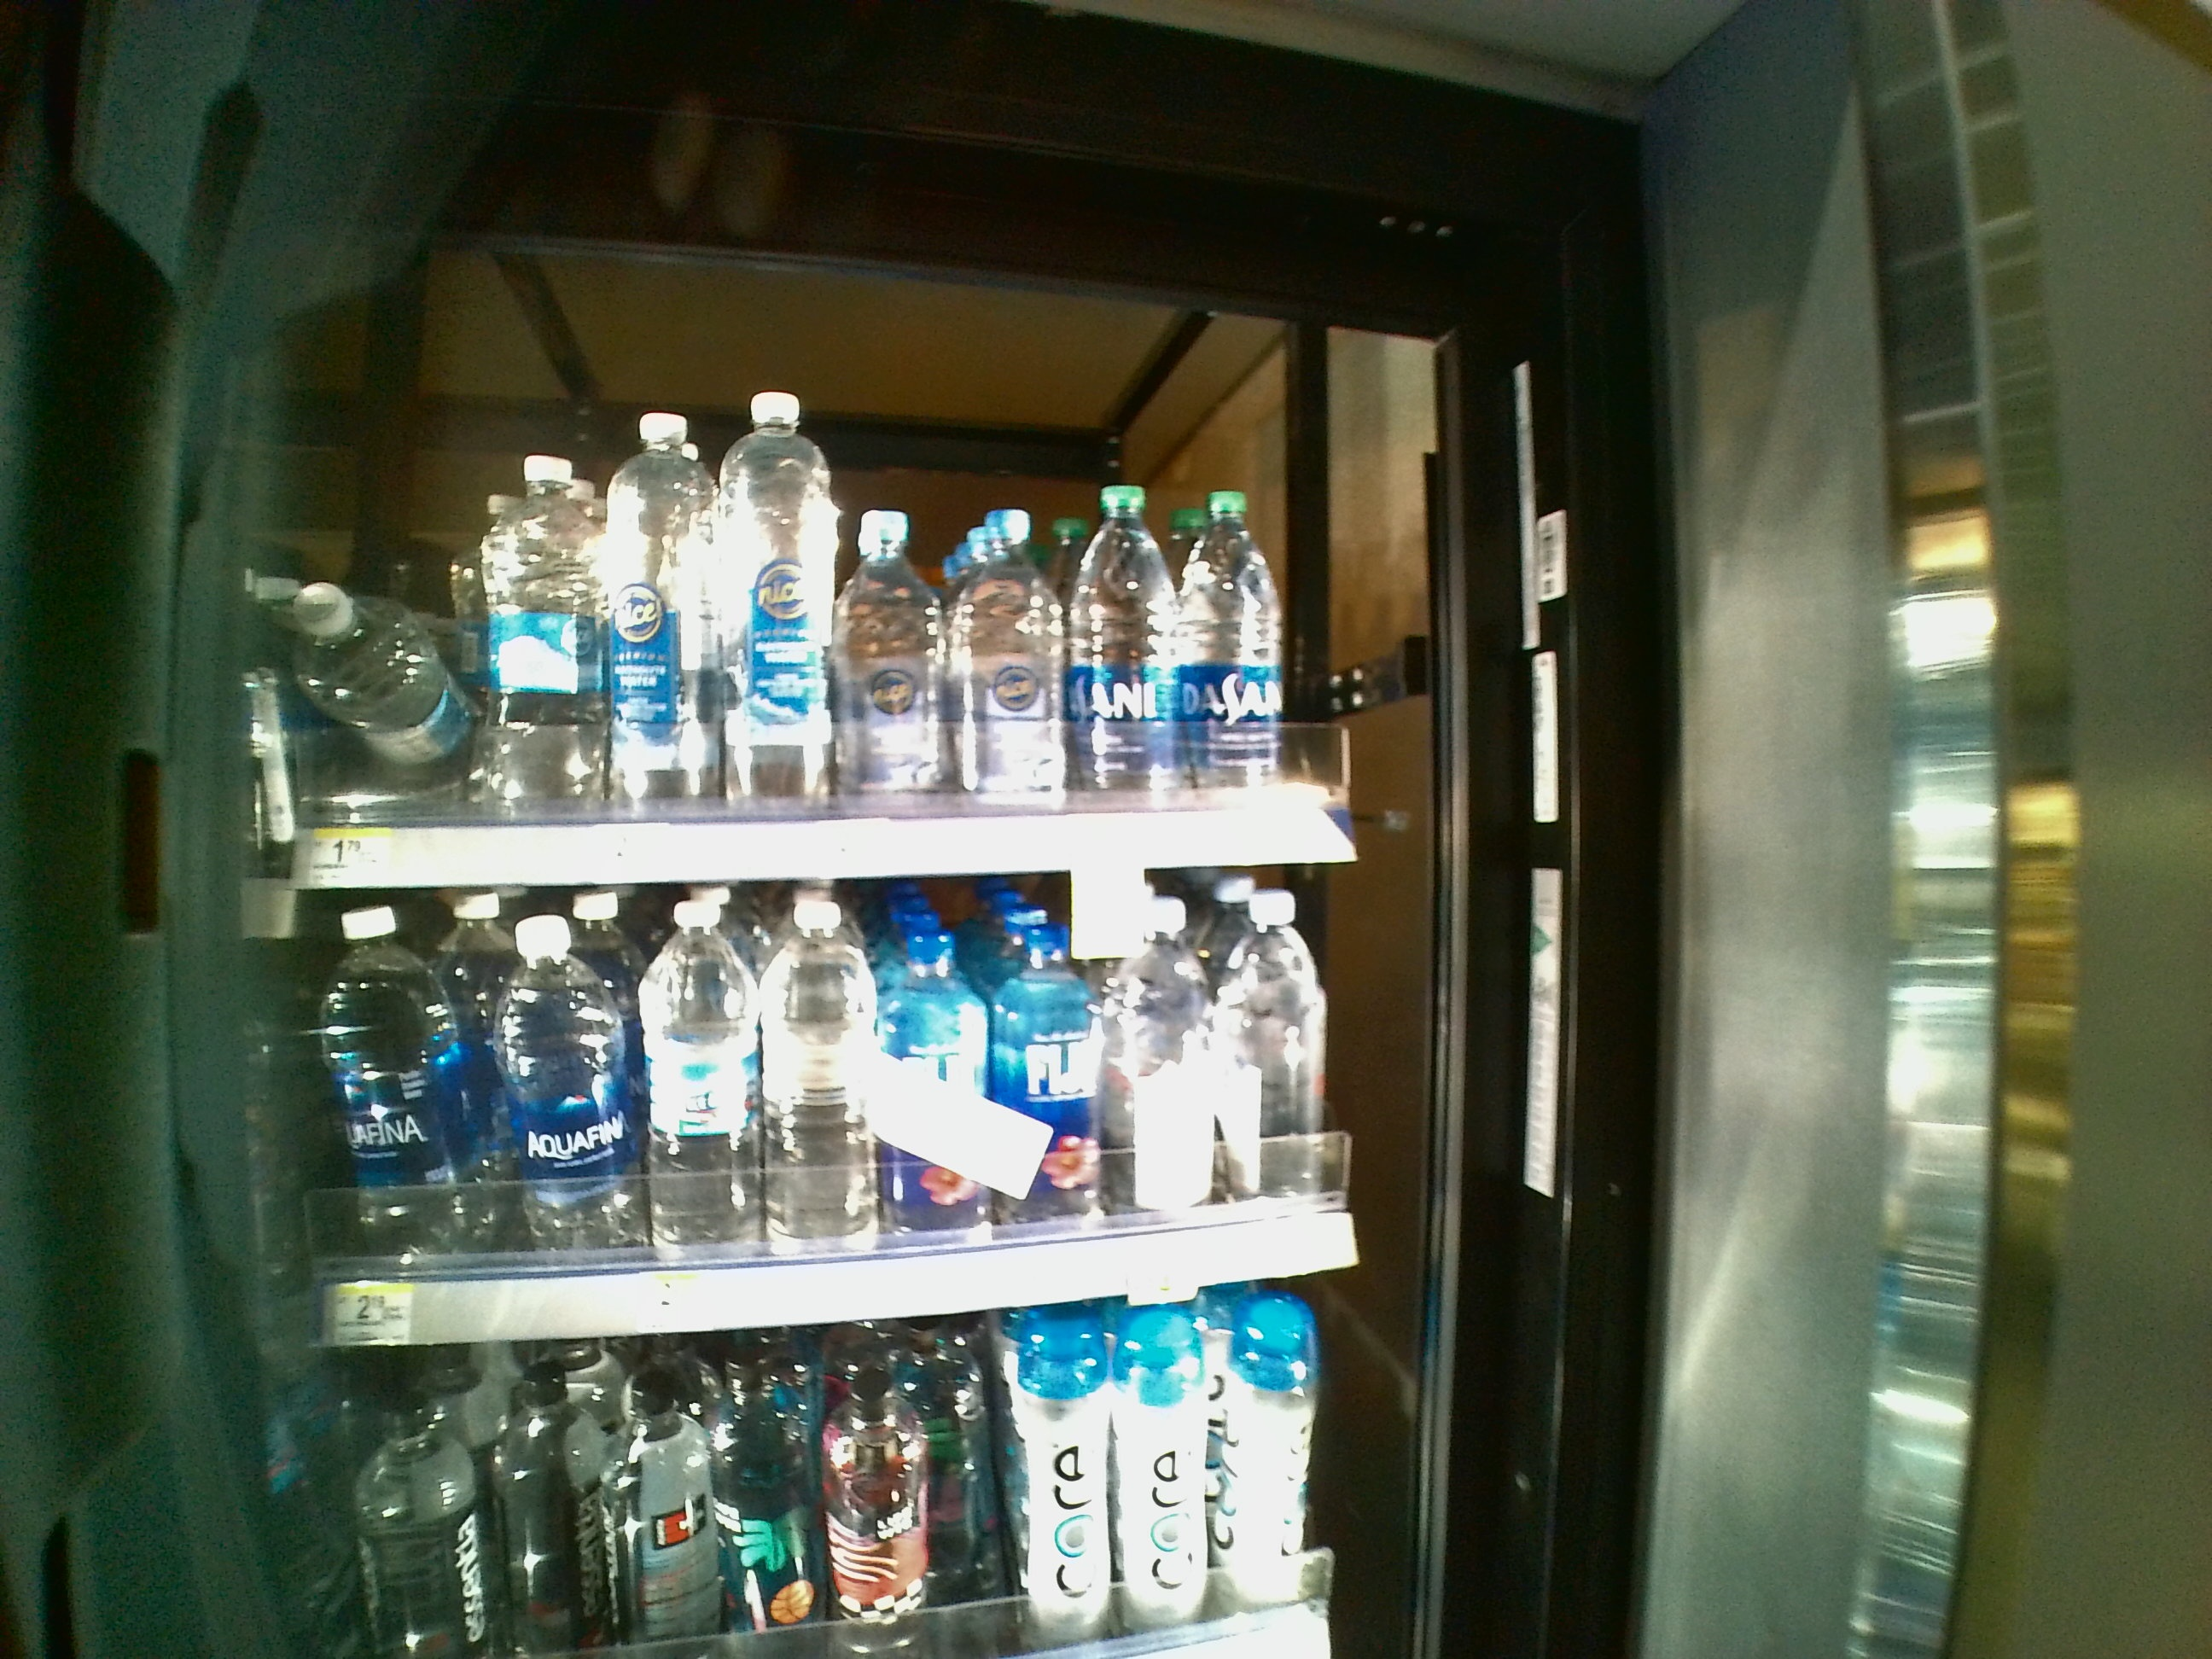Shelf: (221, 331, 1395, 889), (223, 889, 1399, 1351)
